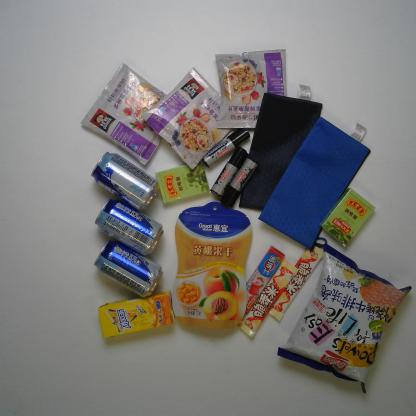Alcohol: (86, 238, 175, 299), (93, 194, 166, 254), (91, 148, 159, 211)
Candy: (319, 187, 380, 243), (240, 242, 284, 312), (156, 162, 213, 206)
Chocolate: (241, 261, 296, 337), (272, 245, 322, 322)
Dried Fruit: (174, 203, 251, 339)
Drink: (90, 295, 186, 341)
Instant Drink: (78, 70, 175, 162), (147, 67, 233, 169), (218, 45, 294, 133)
Puffed Food: (279, 245, 411, 403)
Stationery: (263, 115, 370, 245), (239, 92, 323, 214), (210, 148, 251, 198), (202, 127, 252, 162), (230, 155, 260, 212)
